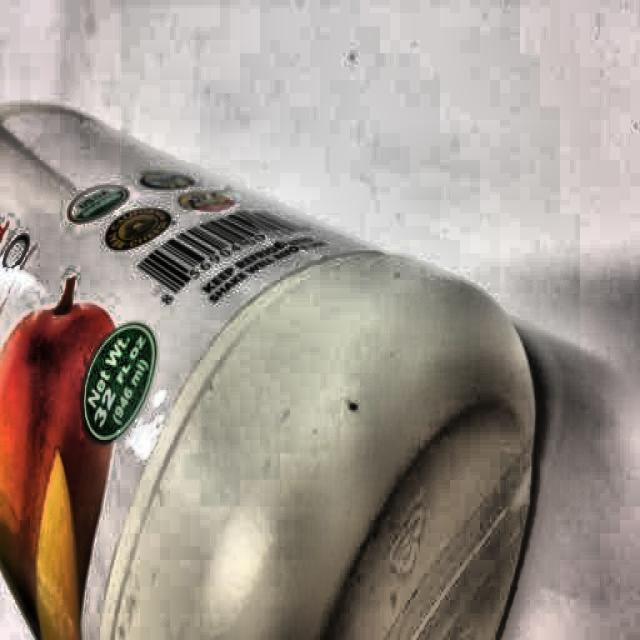plastic: (0, 90, 535, 640)
